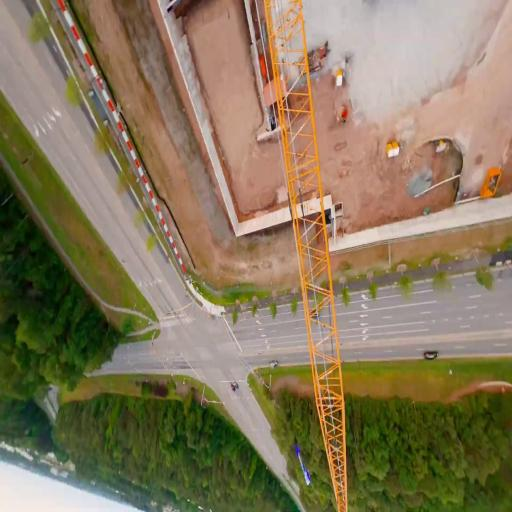uav: (295, 441, 312, 488)
